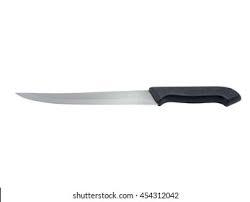Knife: (15, 85, 241, 106)
